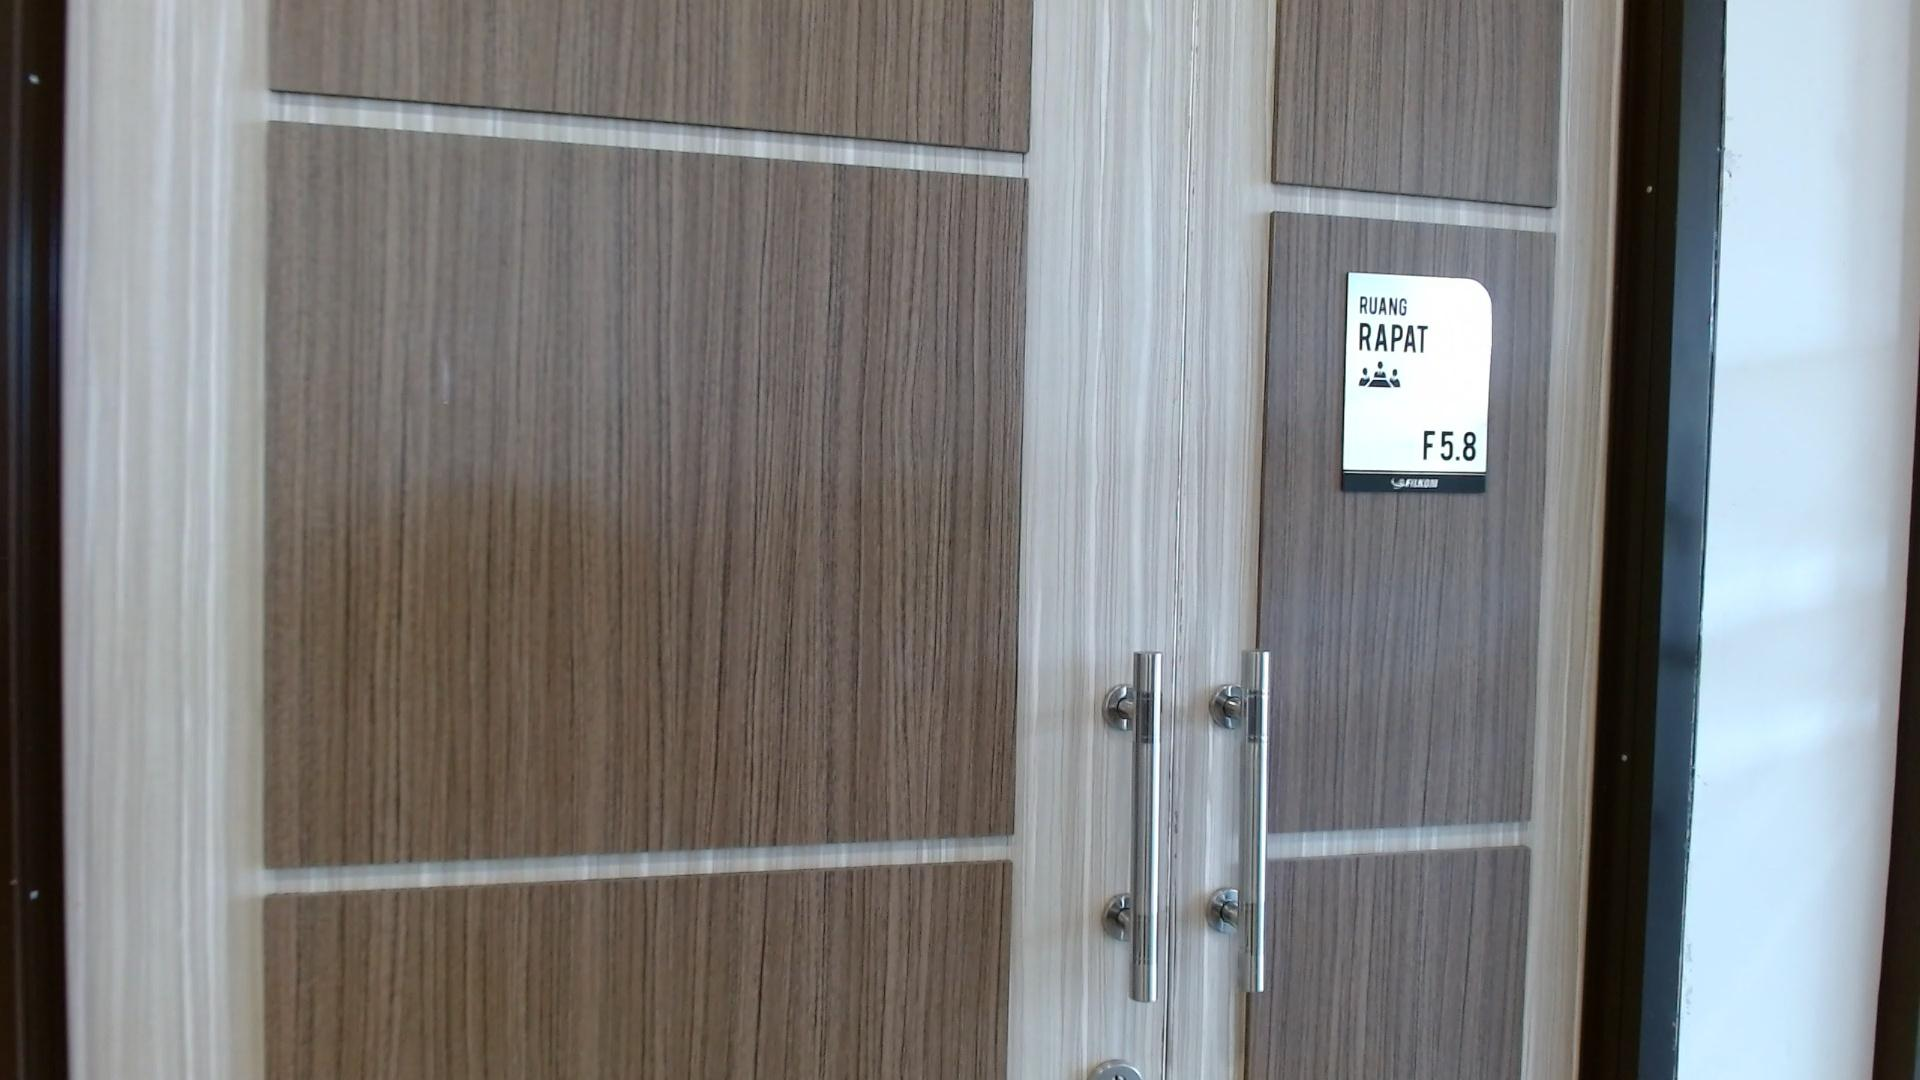plate: (1342, 272, 1495, 495)
